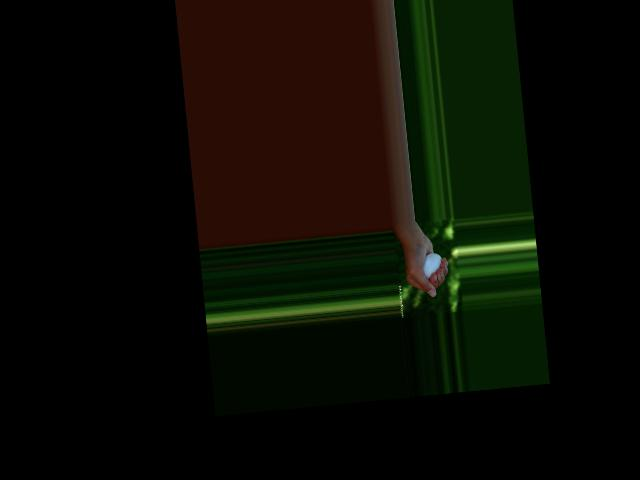egg: (421, 252, 443, 280)
